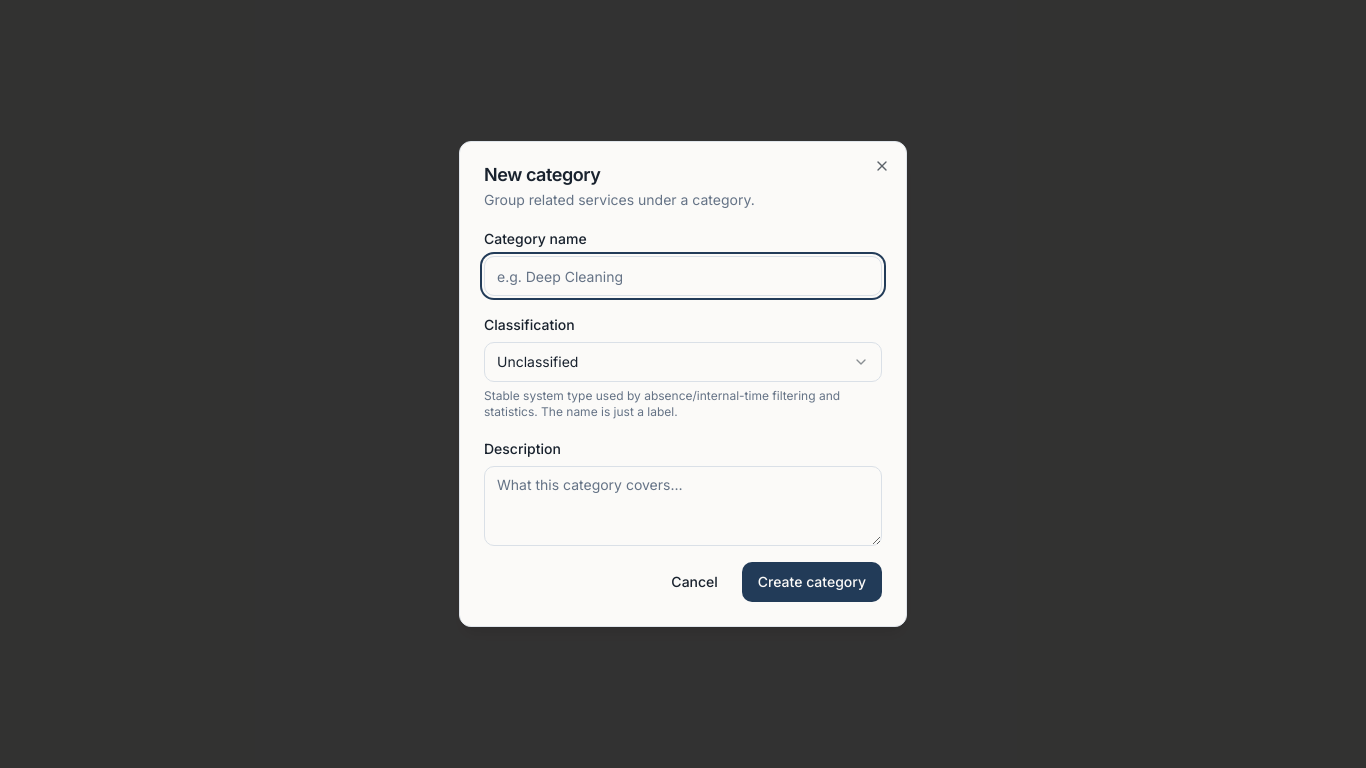
CORE-WRITES-A1 ServiceCategoryDialog › keeps the dialog open and shows an error when Supabase category create fails
The image size is (1366, 768).
Type "Broken Category" into the field labelled "Category name".
click(683, 276); type("Broken Category")  # box 484,256 -> 882,296
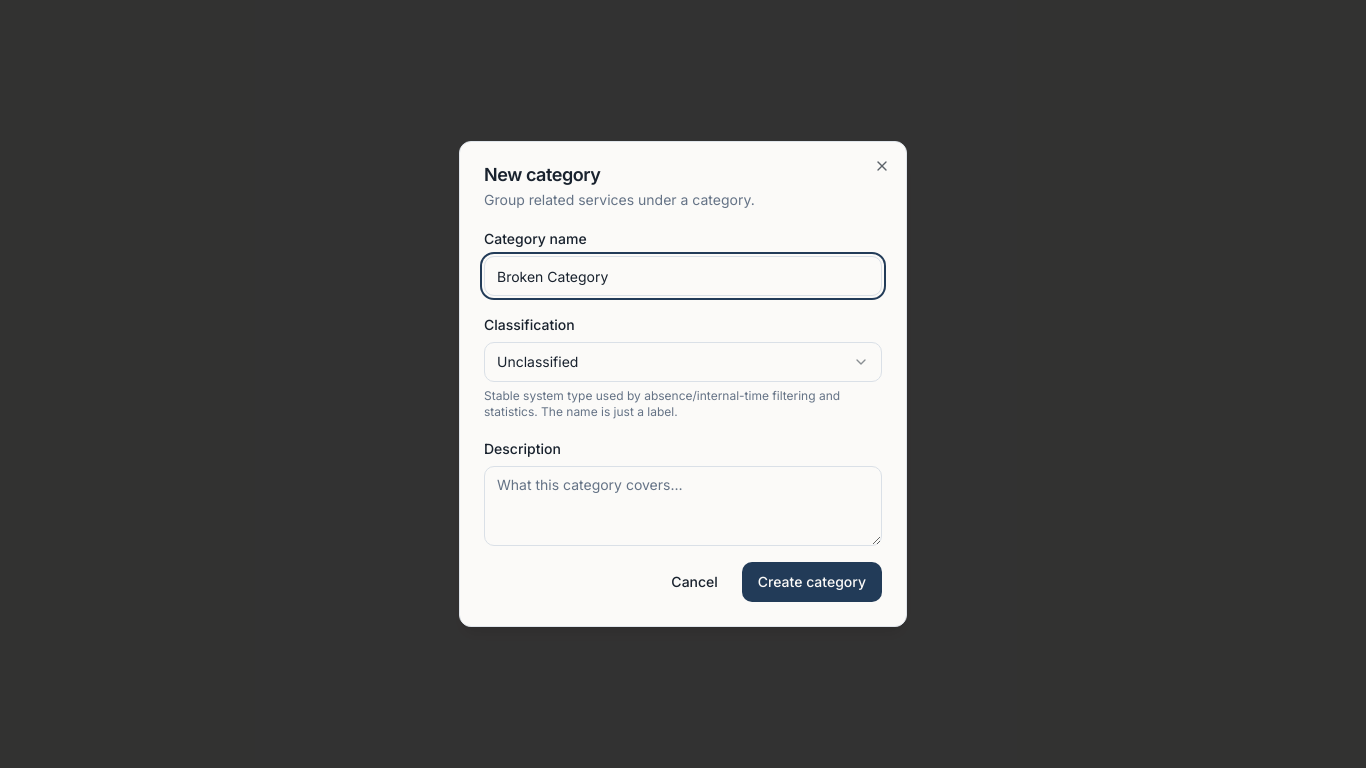
Click the button "Create category".
click(812, 582)  # box 742,562 -> 882,602
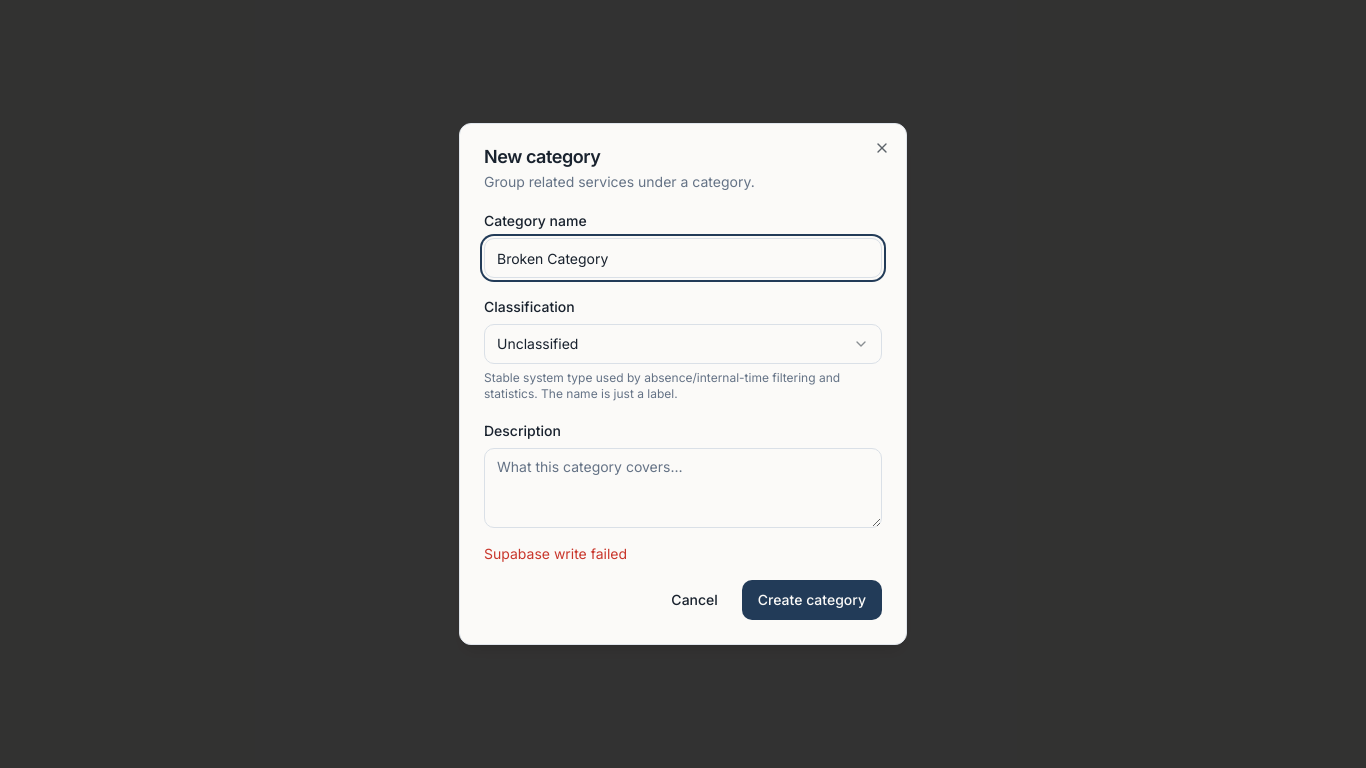
Result: the message reads "Supabase write failed" at 484,545 -> 627,562
